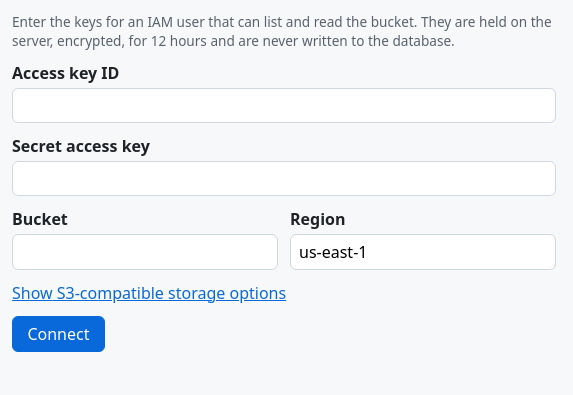
ConnectionPanel › shows per-field errors from the server
Step 1. Type "AKIAEXAMPLE" into the field labelled "Access key ID" → (284, 106), box [12,88,556,123]
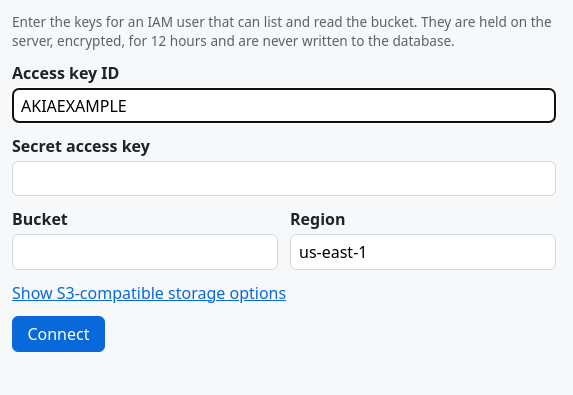
Step 2. Type "secret-value" into the password field labelled "Secret access key" → (284, 179), box [12,161,556,196]
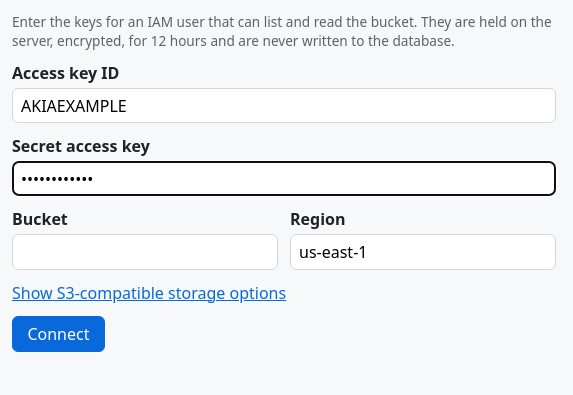
Step 3. Click the button "Connect" → click(58, 334), box [12,316,105,352]
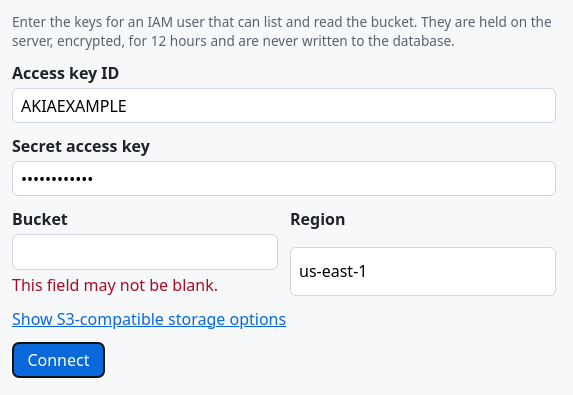
Result: the text "This field may not be blank." is shown at [12,274,218,296]
